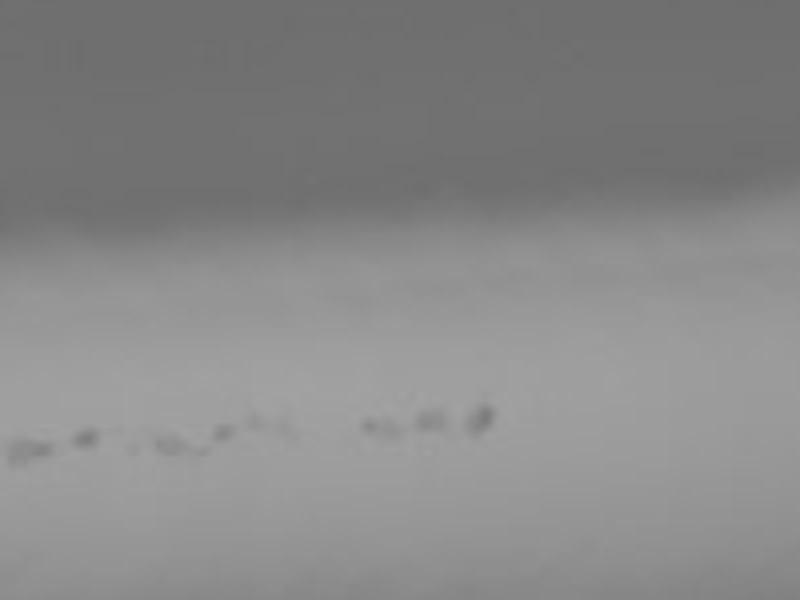defect: (463, 402, 494, 438), (410, 406, 448, 435), (151, 428, 185, 458), (5, 435, 33, 469), (373, 416, 401, 448), (70, 424, 98, 452), (210, 420, 234, 442), (241, 406, 263, 430), (32, 436, 56, 457), (189, 442, 215, 459), (357, 414, 378, 434), (122, 436, 141, 456)
